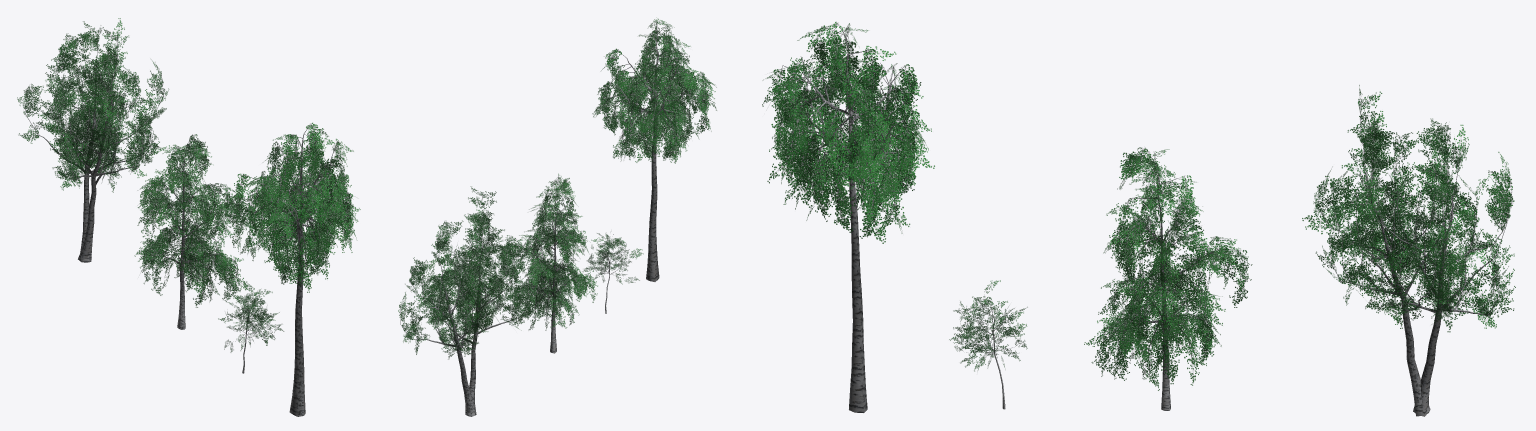
The model's file is birch_trees.glb.
The picture shows the model from 3 angles, left to right: view 1: azimuth 30°, elevation 25°; view 2: azimuth 150°, elevation 25°; view 3: azimuth 270°, elevation 25°; orthographic projection. The views are drawn at different scales.
Parts seen in each view (by area): view 1: birch-4, birch-2, birch-1, birch-3; view 2: birch-4, birch-2, birch-1, birch-3; view 3: birch-4, birch-2, birch-1, birch-3.
Boxes of the visible parts, x1,y1,x2,y2 form: birch-4: (17,18,168,262); birch-2: (227,122,360,416); birch-1: (134,134,249,329); birch-3: (218,280,283,373); birch-4: (398,186,534,416); birch-2: (592,18,716,281); birch-1: (495,173,597,353); birch-3: (582,233,643,313); birch-4: (1302,85,1515,416); birch-2: (762,21,934,412); birch-1: (1084,147,1252,410); birch-3: (949,280,1027,409).
Bounding box in the file's own units: 701 × 1527 × 2650.
2 materials, 2 textured.
